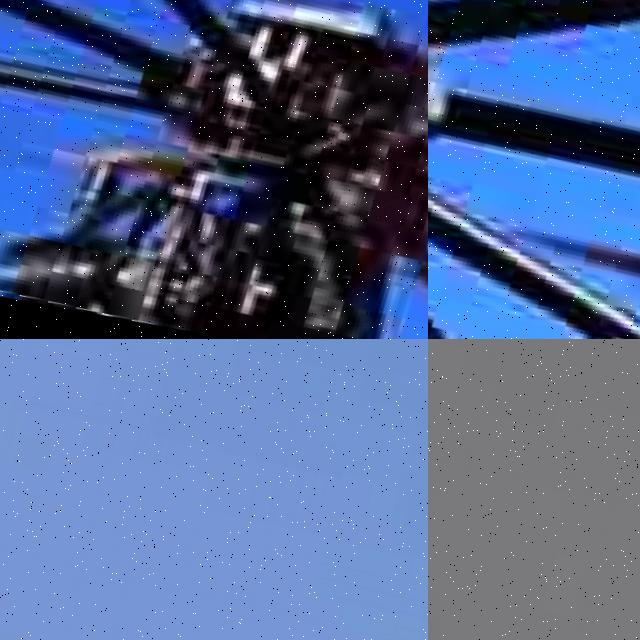drone: (0, 0, 428, 339), (428, 0, 640, 339)
